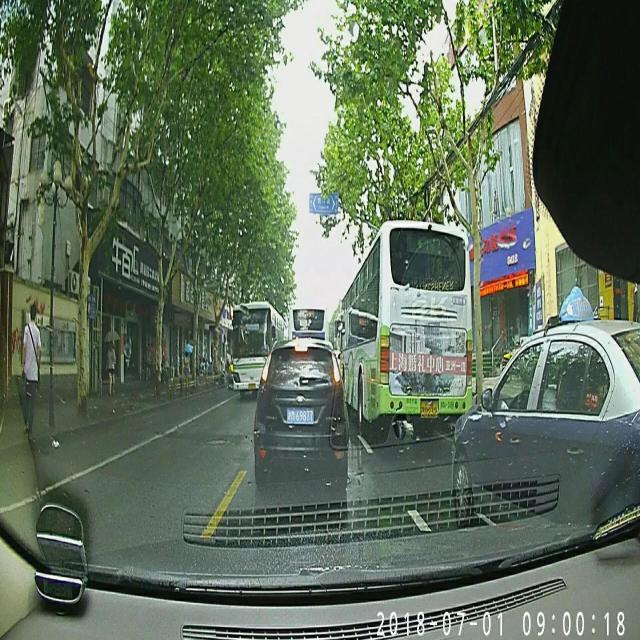car: (452, 315, 640, 528), (252, 336, 348, 490)
